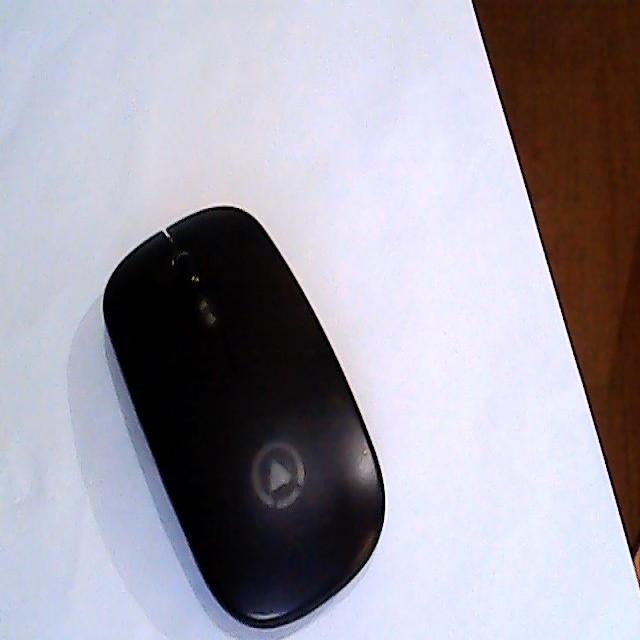mouse: (101, 200, 387, 635)
